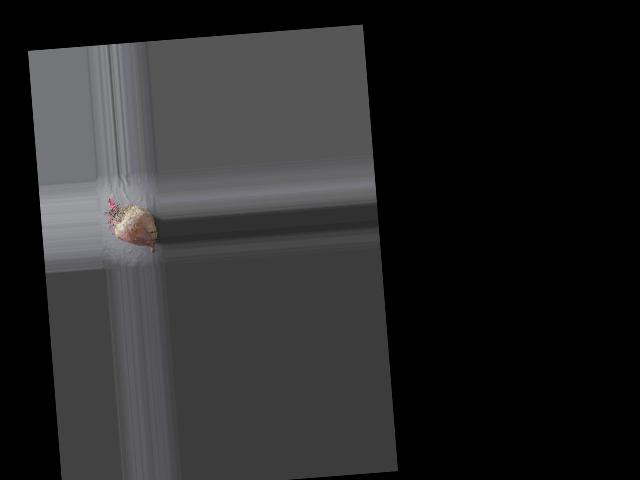beet: (103, 194, 158, 257)
